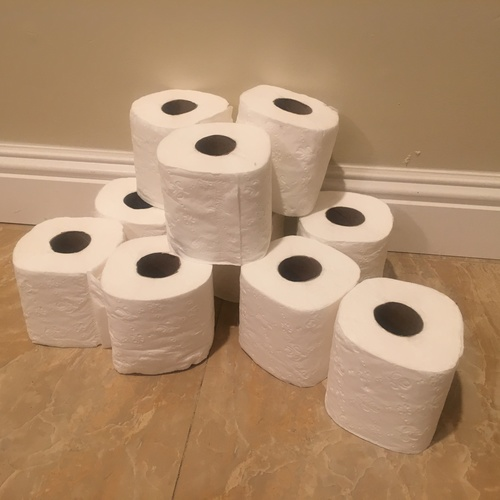roll: (324, 277, 465, 454), (237, 236, 362, 388), (100, 233, 216, 375), (158, 122, 273, 261), (11, 216, 126, 346), (237, 84, 339, 217), (128, 90, 231, 205), (296, 189, 398, 285), (94, 179, 169, 240)
